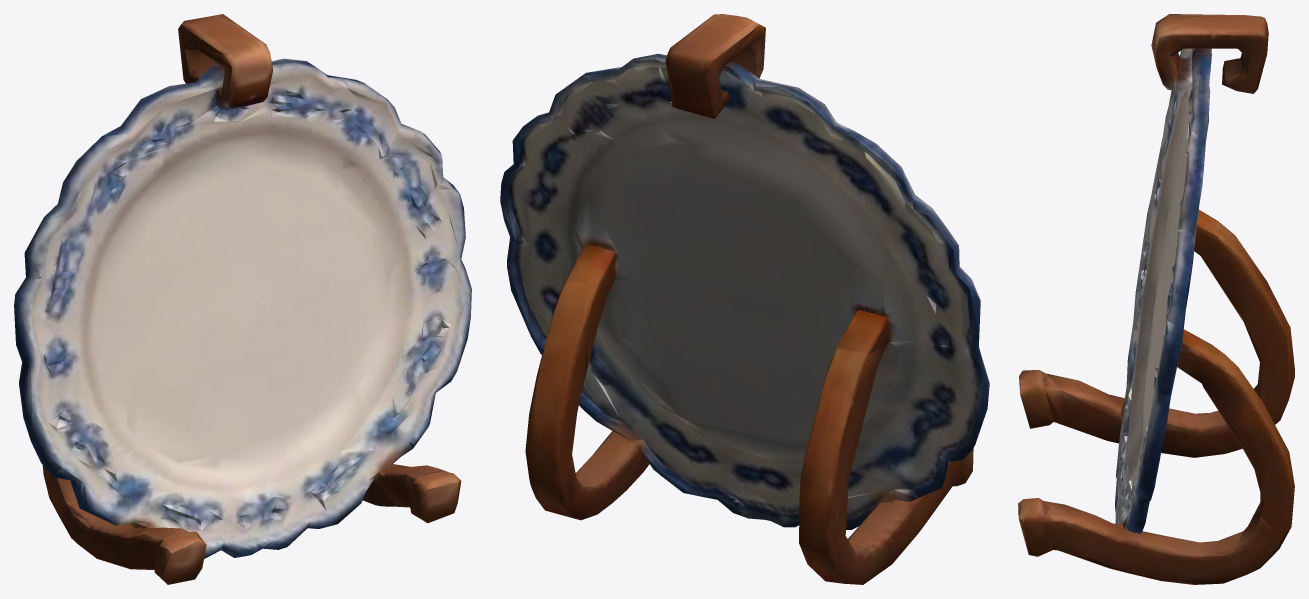
File: wall10.glb
3 renders of one model, left to right at view 1: azimuth 30°, elevation 25°; view 2: azimuth 150°, elevation 25°; view 3: azimuth 270°, elevation 25°, orthographic. The views are drawn at different scales.
Size of the model in its own units: 0.2329 by 0.2442 by 0.1214.
Materials: 1 (1 with a texture image).
